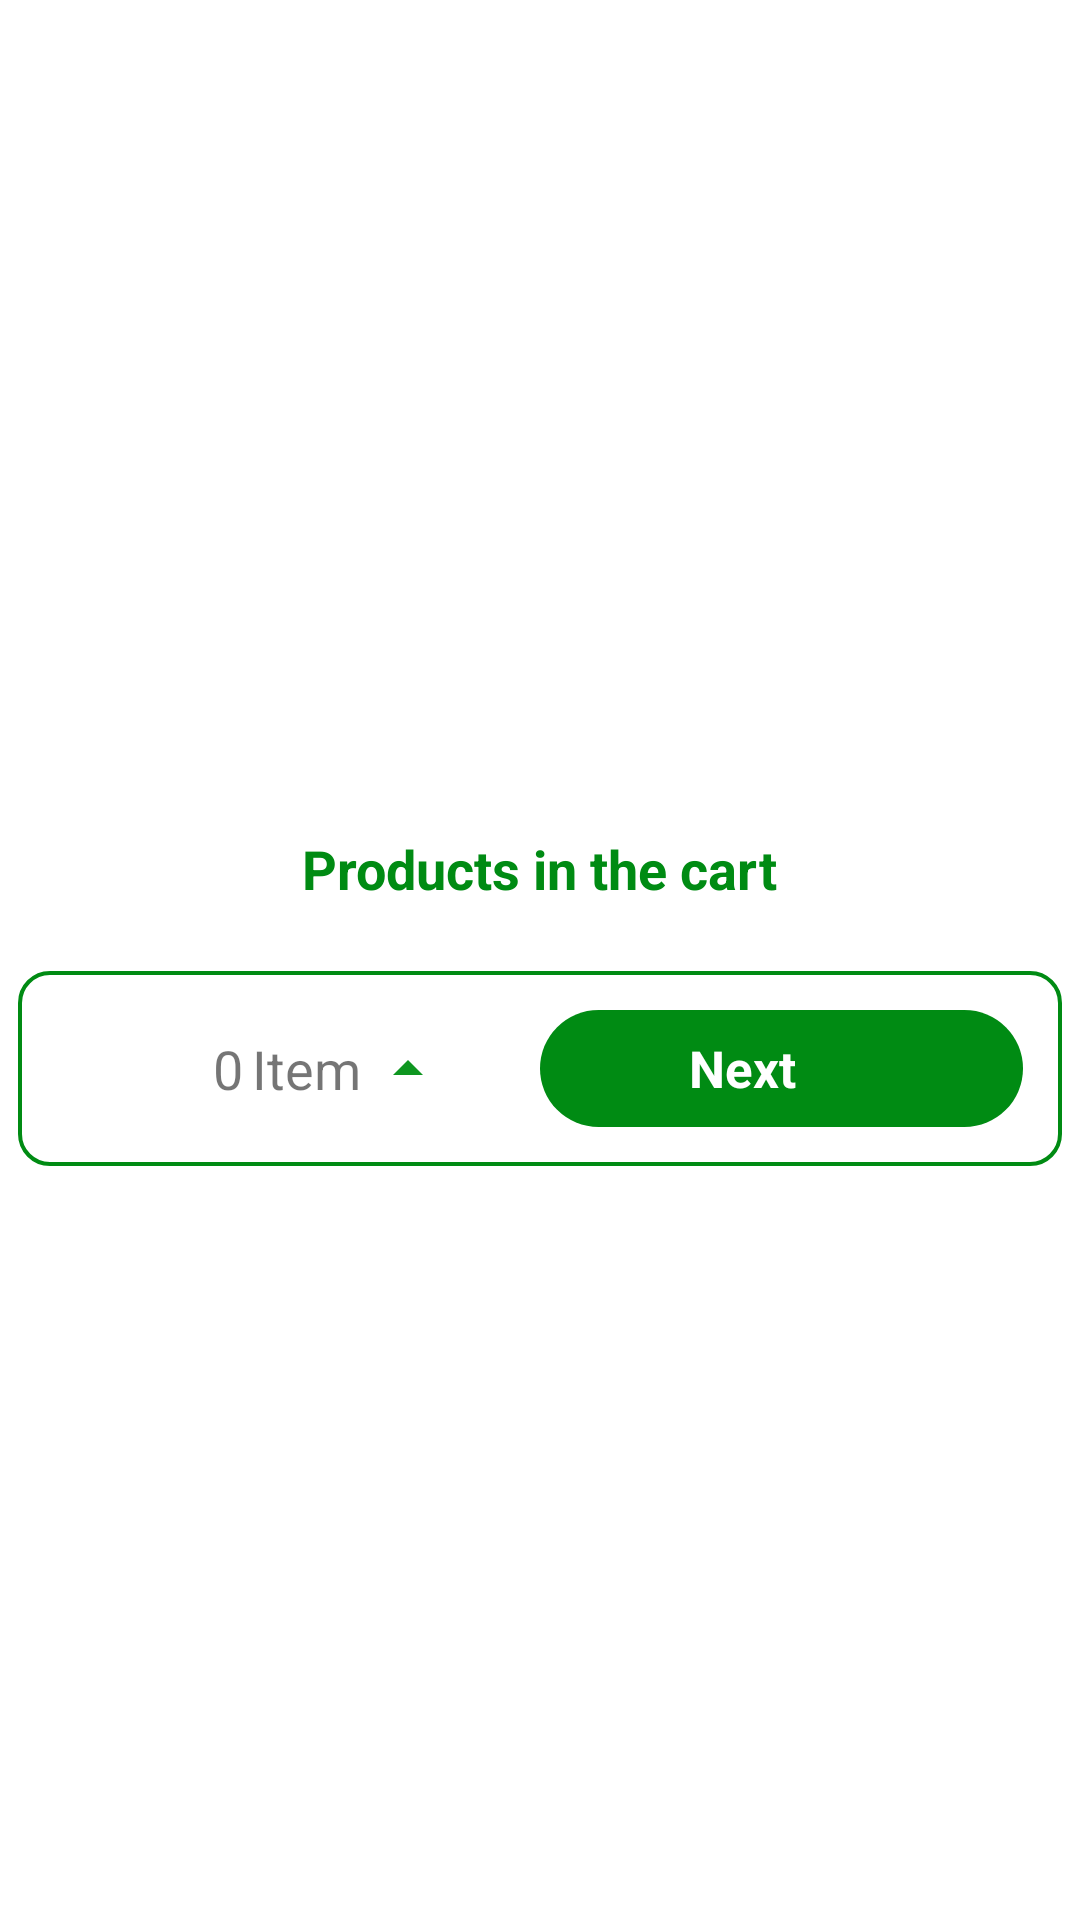

Point at icon controls on the screen. Image size 1080px x 1920px, points as point (x, y).
arrow drop up: point (408, 1067)
